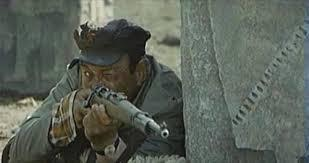rifle: (82, 85, 170, 142)
